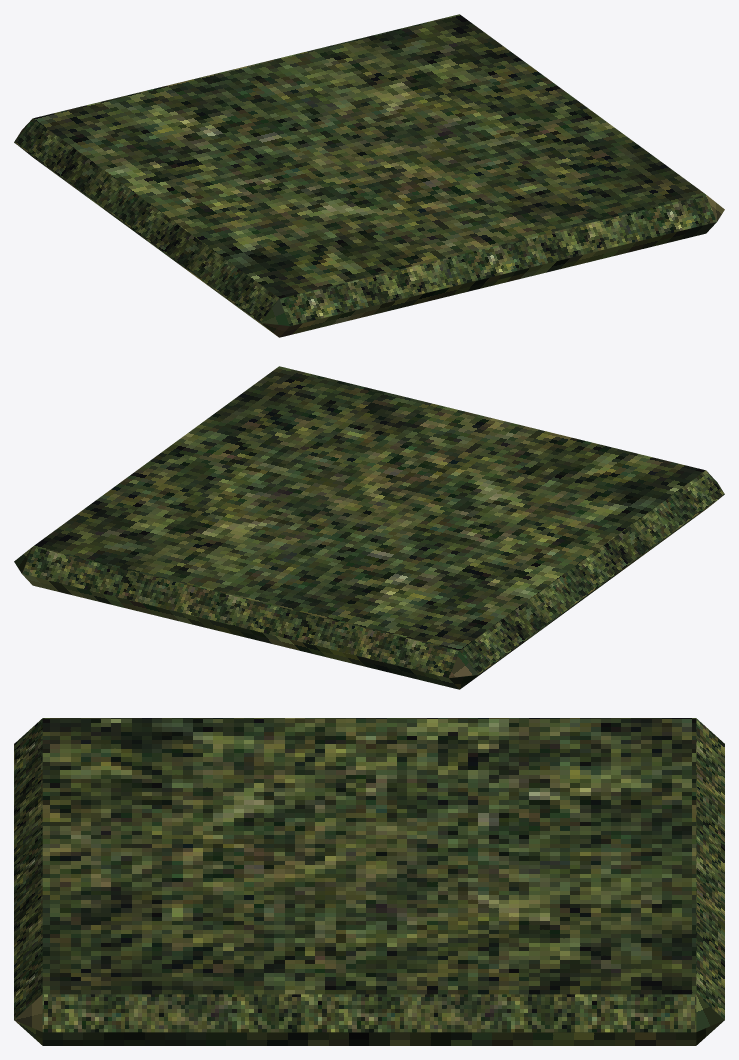
The model's file is GrassTile.glb.
3 views of the same model, one above another, from view 1: azimuth 30°, elevation 25°; view 2: azimuth 150°, elevation 25°; view 3: azimuth 270°, elevation 25° (orthographic). The views are drawn at different scales.
Parts seen in each view (by area): view 1: base colo; view 2: base colo; view 3: base colo.
Boxes of the visible parts, x1,y1,x2,y2 form: base colo: [14, 14, 724, 337]; base colo: [14, 366, 724, 689]; base colo: [14, 718, 724, 1045].
Bounding box in the file's own units: 2 × 0.1603 × 2.
Materials: 1 (1 with a texture image).
